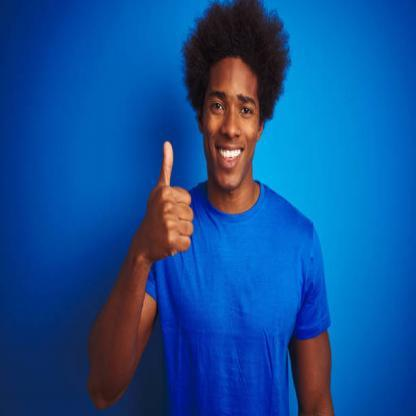thumb_up: (140, 139, 194, 268)
